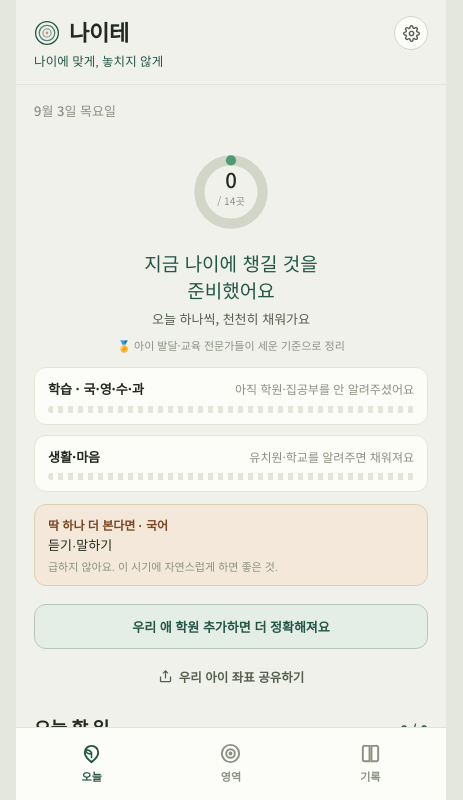
Scenario: ⭐ 영어(자체) 목표를 부모가 직접 입력한다 › 영역 화면에서 영어는 "목표 정하기" 초대로 나온다 (하드코딩 목표 없음)
This screenshot has width=463, height=800.
Click the button "영역" at (231, 763), box top-left (161, 736), bottom-right (301, 790)
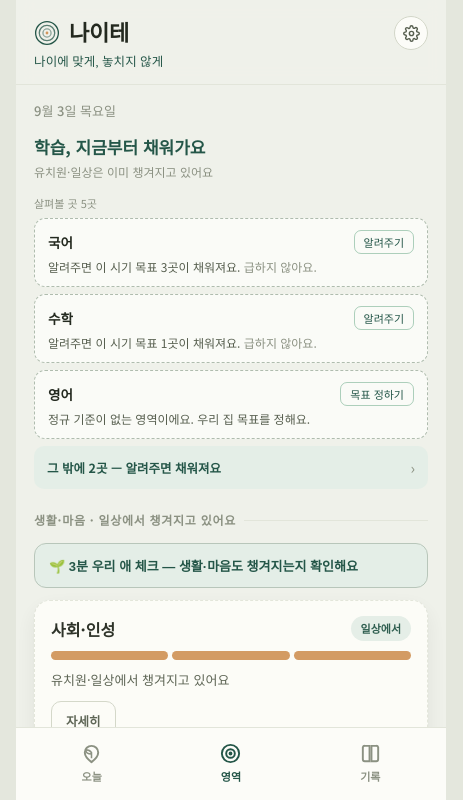
Result: the text "목표 정하기" is shown at top-left (340, 382), bottom-right (414, 406)
